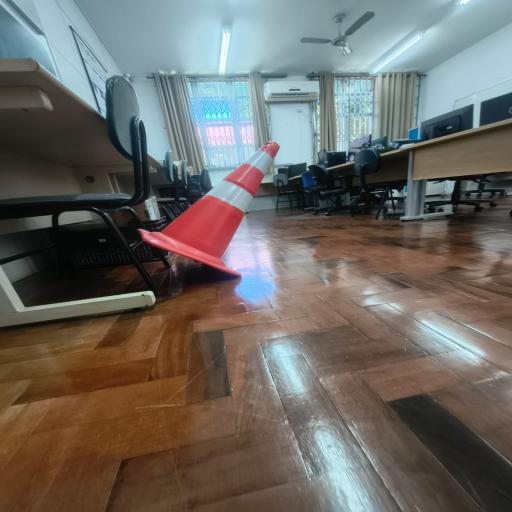cone: (156, 138, 286, 244)
